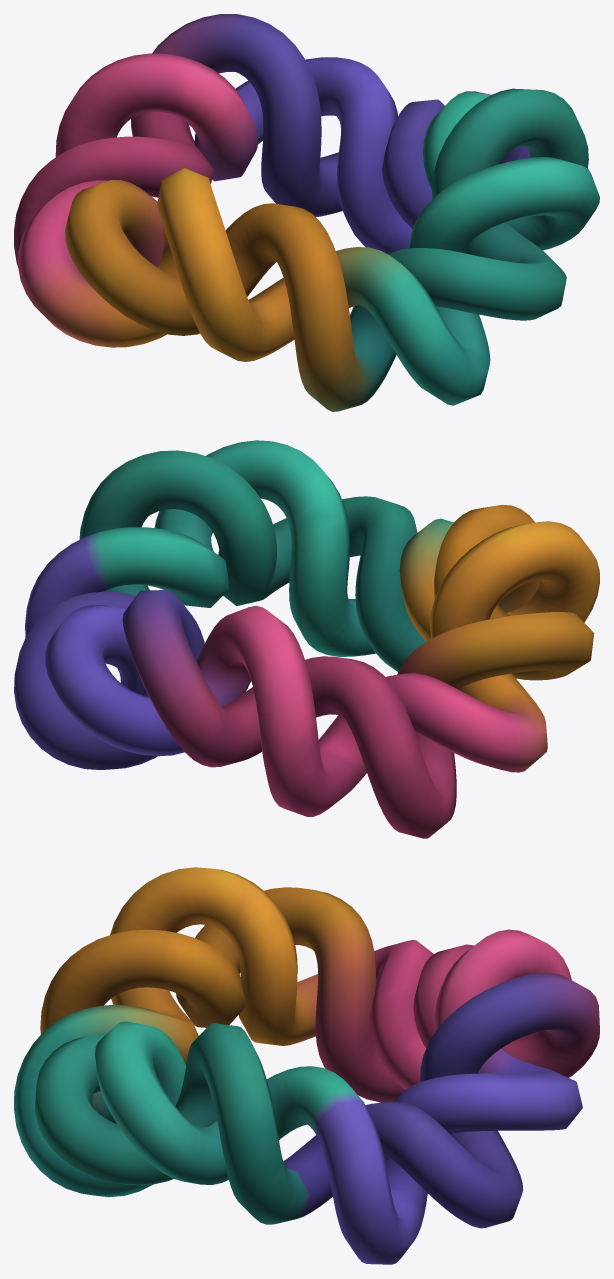
The model's file is plasmid.glb.
3 views of the same model, one above another, from view 1: azimuth 30°, elevation 25°; view 2: azimuth 150°, elevation 25°; view 3: azimuth 270°, elevation 25° (orthographic).
Parts seen in each view (by area): view 1: plasmid-strand1, plasmid-strand0; view 2: plasmid-strand0, plasmid-strand1; view 3: plasmid-strand1, plasmid-strand0.
Boxes of the visible parts, bbox=[...] form: plasmid-strand1: bbox=[14, 14, 588, 411]; plasmid-strand0: bbox=[18, 53, 599, 405]; plasmid-strand0: bbox=[25, 440, 599, 816]; plasmid-strand1: bbox=[14, 450, 594, 838]; plasmid-strand1: bbox=[34, 887, 599, 1228]; plasmid-strand0: bbox=[14, 867, 582, 1264].
Size of what is drawn, in the model's own units: 0.6567 by 0.2889 by 0.6682.
